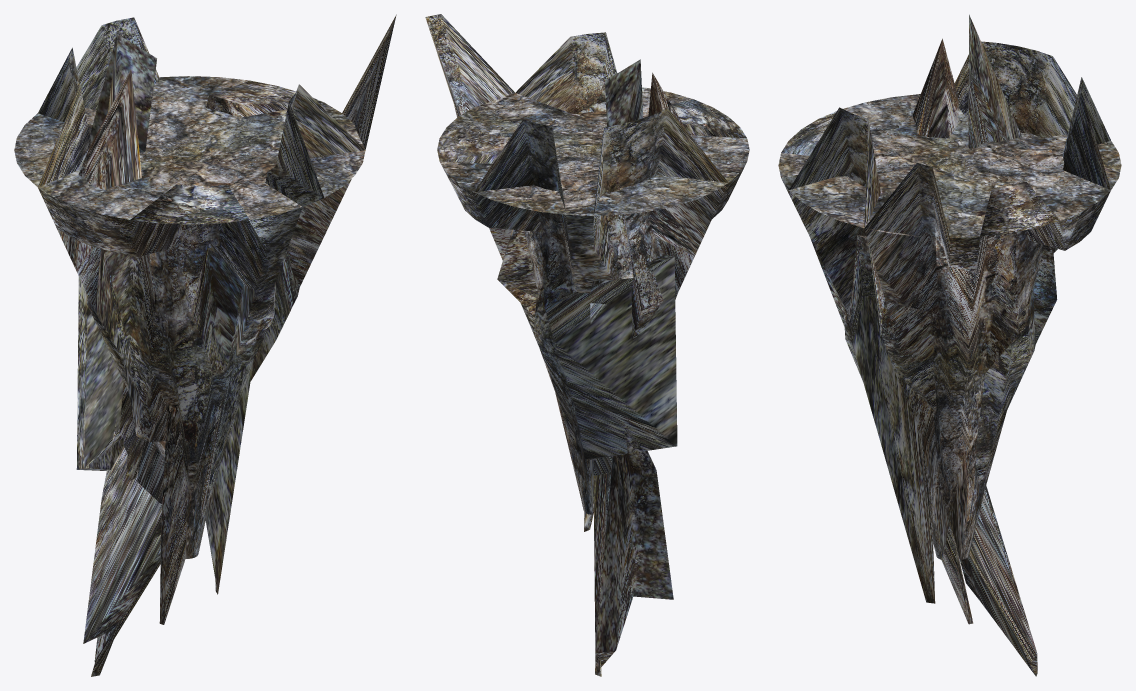
Rendered from stalaktit_2.fbx.
3 renders of one model, left to right at view 1: azimuth 30°, elevation 25°; view 2: azimuth 150°, elevation 25°; view 3: azimuth 270°, elevation 25°, orthographic. The views are drawn at different scales.
Parts seen in each view (by area): view 1: Kegel; view 2: Kegel; view 3: Kegel.
Boxes of the visible parts, x1,y1,x2,y2 form: Kegel: (14, 14, 396, 676); Kegel: (425, 14, 749, 676); Kegel: (778, 14, 1121, 676).
Bounding box in the file's own units: 198 × 362 × 172.
1 material, 1 textured.
